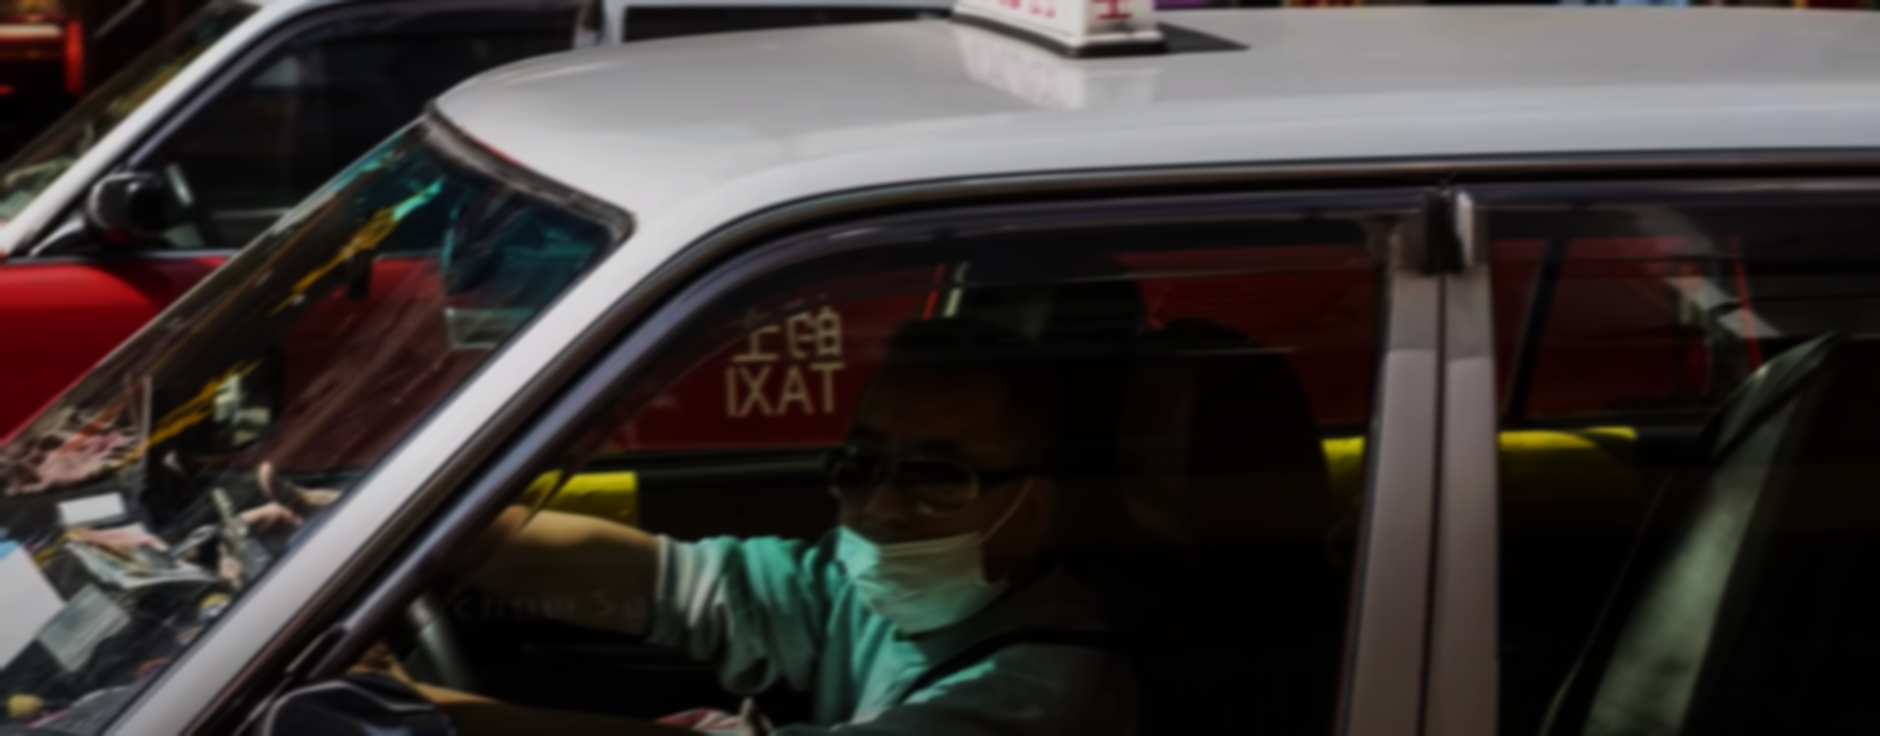mask_weared_incorrect: (827, 322, 1082, 639)
